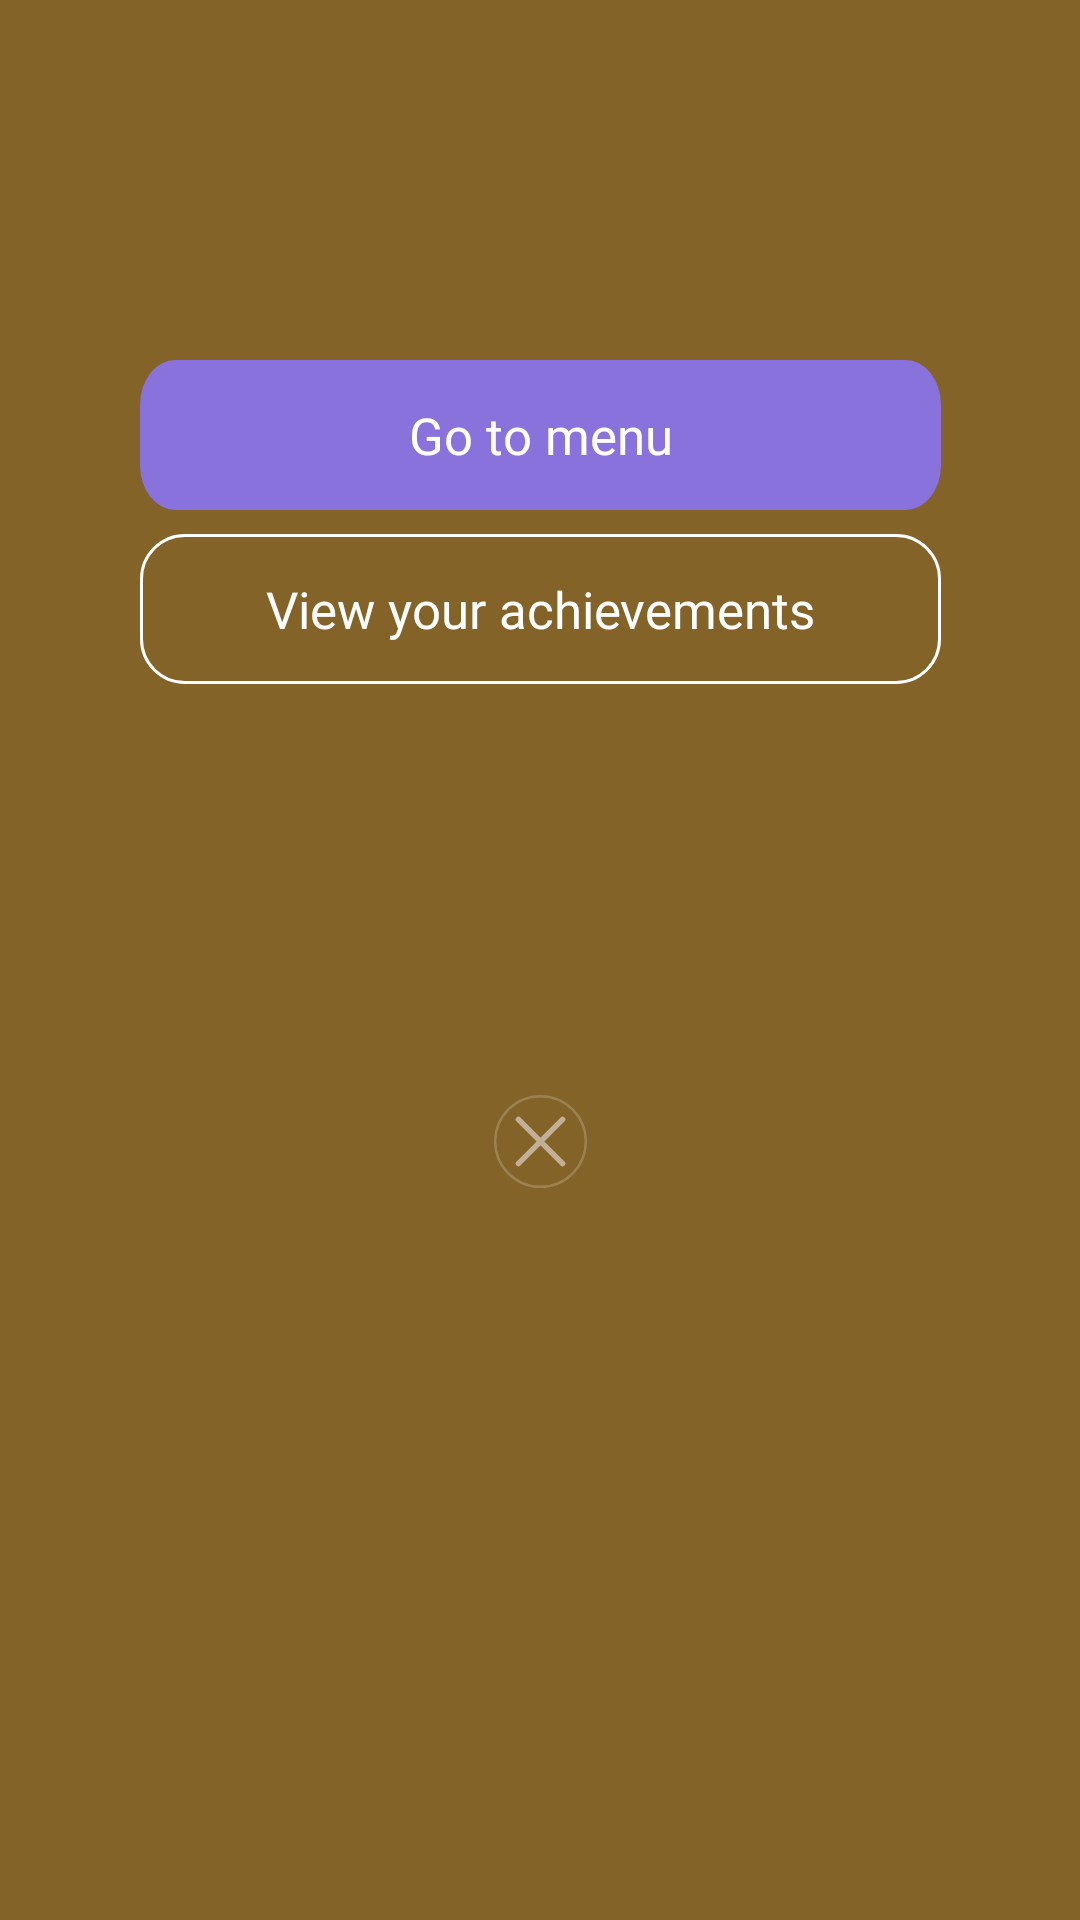

Where to tap for icons on this 1080 × 1920 app screen, as [x,y]:
exit: [540,1141]
